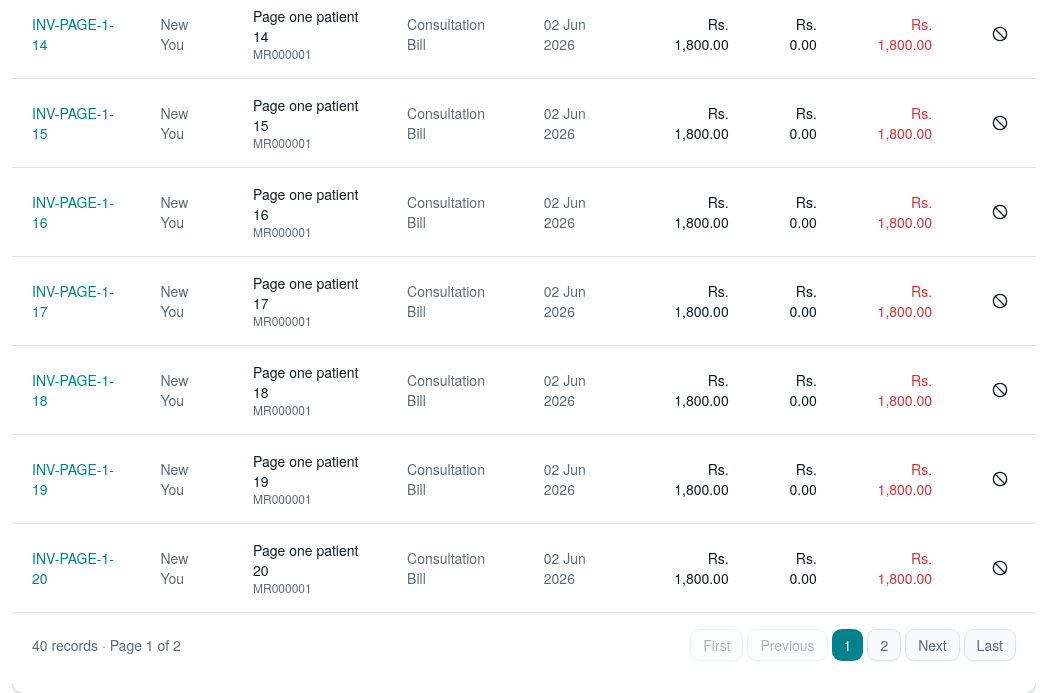
Test: BillingWorkspace › keeps dashboard totals stable when invoice pagination changes
This screenshot has width=1048, height=693.
(page scrolled)
Click the button "Next": (932, 645) [905, 629, 960, 661]
(page scrolled)
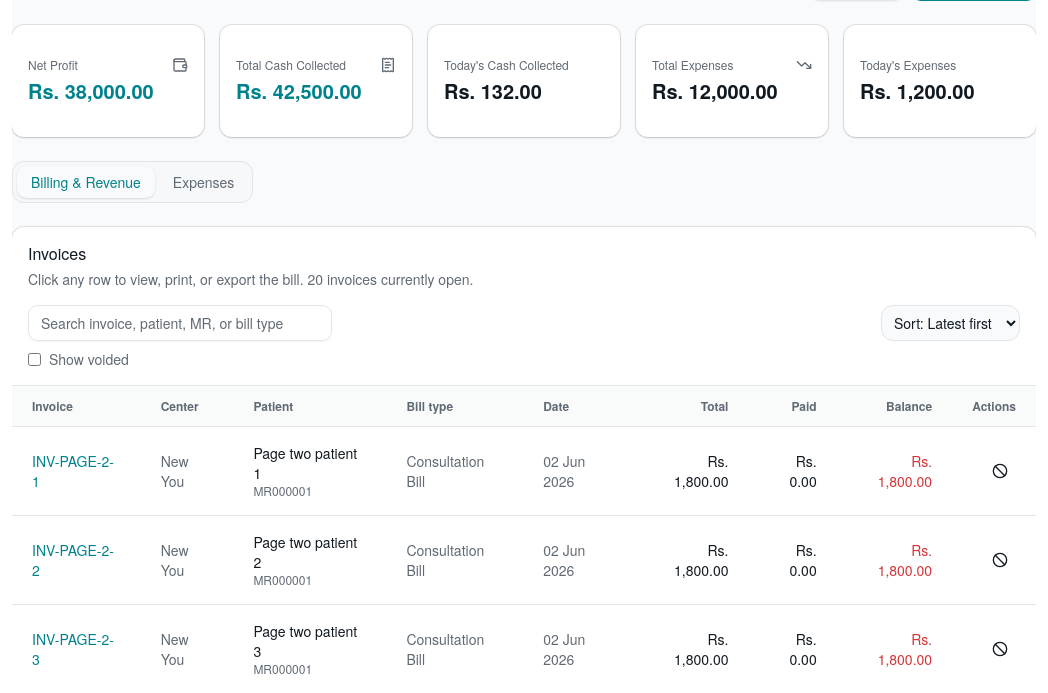
Check: the text "Rs. 38,000.00" is shown, box [28, 76, 154, 105]
Check: the text "INV-PAGE-2-1" is shown, box [32, 451, 121, 491]
